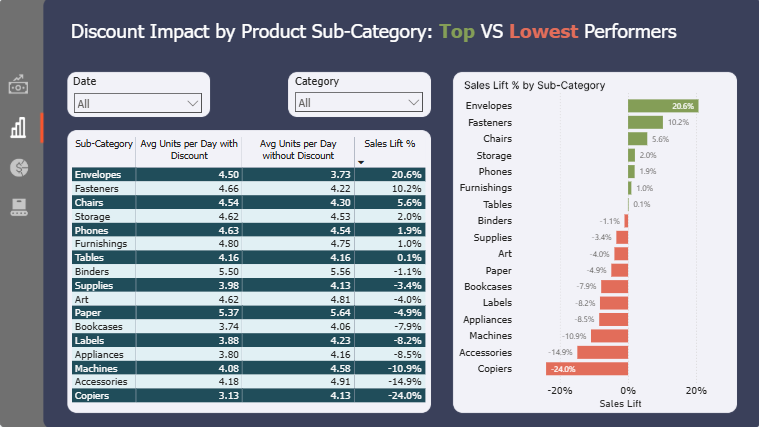

The page's visual inventory and layout, read from the dashboard file:
{"tool":"powerbi","page":{"name":"Page 2","canvas":[1280,720],"ordinal":1},"visuals":[{"type":"pivotTable","fields":{"Rows":["Products.Sub-Category"],"Values":["SalesTransaction.Average Units per Day with Discount","SalesTransaction.Avg Units per Day without Discount","SalesTransaction.Sales Lift %"]},"box":[126.7,225,601.7,463.3],"z":0},{"type":"slicer","fields":{"Values":["SalesTransaction.Ship Date.Variation.Date Hierarchy.Quarter","SalesTransaction.Ship Date.Variation.Date Hierarchy.Month"]},"box":[125,146.7,233.3,46.7],"z":1000},{"type":"slicer","fields":{"Values":["Products.Category"]},"box":[493.3,145,233.3,48.3],"z":2000},{"type":"clusteredBarChart","fields":{"Category":["Products.Sub-Category"],"Y":["SalesTransaction.P2 Sales Lift %"]},"box":[756.7,143.3,485,545],"z":3000},{"type":"textbox","box":[124.9,27.9,1116.7,66.1],"z":4000},{"type":"textbox","box":[128.3,120,220,36.7],"z":5000},{"type":"textbox","box":[498.3,120,220,36.7],"z":6000},{"type":"actionButton","box":[11.8,254.2,70.5,55.8],"z":7000},{"type":"actionButton","box":[11.8,320.3,70.5,55.8],"z":8000},{"type":"actionButton","box":[8.8,116.1,70.5,55.8],"z":9000}]}

Visuals, with their boxes on the page's 1280x720 design canvas (x1, y1, x2, y2). These are canvas units, not pixel positions in the 759x427 screenshot, which may show the page scaled, cropped or inside an application window:
pivotTable - Products.Sub-Category x SalesTransaction.Average Units per Day with Discount: box(127, 225, 728, 688)
slicer - SalesTransaction.Ship Date.Variation.Date Hierarchy.Quarter x SalesTransaction.Ship Date.Variation.Date Hierarchy.Month: box(125, 147, 358, 193)
slicer - Products.Category: box(493, 145, 727, 193)
clusteredBarChart - Products.Sub-Category x SalesTransaction.P2 Sales Lift %: box(757, 143, 1242, 688)
textbox: box(125, 28, 1242, 94)
textbox: box(128, 120, 348, 157)
textbox: box(498, 120, 718, 157)
actionButton: box(12, 254, 82, 310)
actionButton: box(12, 320, 82, 376)
actionButton: box(9, 116, 79, 172)
